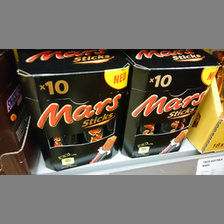chocolate: (14, 50, 130, 167), (124, 51, 218, 160)
